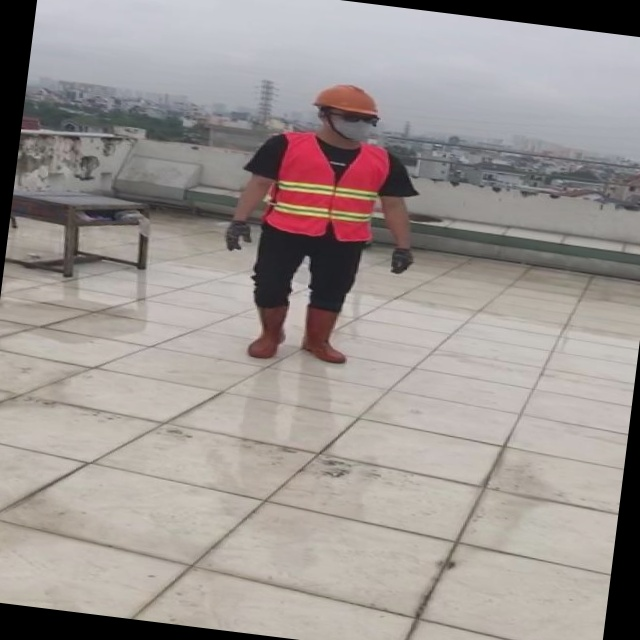boots: (290, 308, 336, 362), (348, 309, 392, 364)
gloves: (392, 218, 438, 274), (232, 213, 264, 273)
helmet: (284, 79, 358, 113)
vest: (272, 138, 388, 237)
